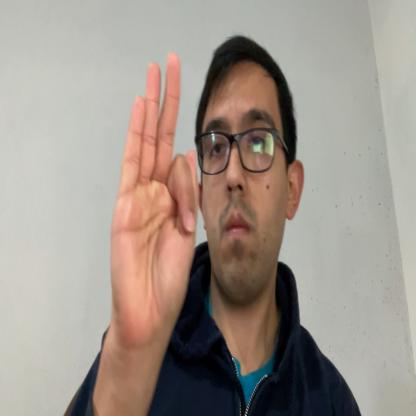F: (110, 49, 199, 335)
